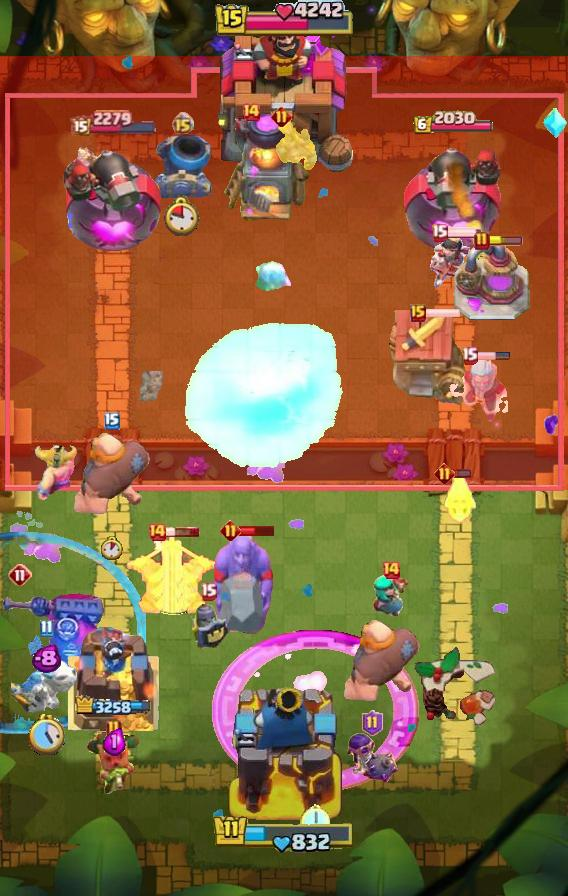archer-queen: (210, 532, 276, 644)
balloon: (72, 432, 152, 520), (342, 619, 422, 707)
bat: (254, 260, 292, 294)
bat-evolution: (443, 471, 479, 525)
clock: (212, 813, 356, 855), (213, 0, 355, 40)
electro-spirit: (31, 644, 61, 674), (102, 728, 125, 756)
elixir: (28, 713, 65, 754), (164, 195, 200, 236), (300, 803, 330, 837), (101, 536, 123, 560)
emote: (239, 524, 276, 537), (445, 226, 483, 238), (423, 307, 461, 319), (164, 526, 200, 538), (487, 236, 523, 246), (475, 351, 511, 361), (452, 469, 471, 480)
fisherman: (133, 371, 165, 401)
goblin-ball: (344, 730, 400, 786)
goblin-barrel: (85, 732, 143, 798)
goblin-giant: (33, 444, 77, 500)
hunter: (223, 114, 311, 224)
inferno-tower: (0, 591, 116, 677)
king-tower: (211, 7, 357, 181), (223, 680, 345, 826)
knight-evolution: (212, 629, 420, 792)
lava-pup: (123, 536, 221, 618)
mega-knight: (180, 322, 346, 472)
mini-pekka: (11, 633, 81, 715)
mortar: (448, 353, 514, 425)
musketeer: (152, 134, 212, 198)
pad_0: (0, 531, 146, 735)
pad_2: (542, 107, 568, 139)
pekka: (452, 240, 530, 322)
princess: (186, 596, 230, 654)
queen-tower: (68, 627, 160, 731)
royal-delivery: (274, 117, 318, 173)
selected: (70, 109, 158, 136), (412, 110, 494, 136), (75, 694, 153, 717)
skeleton-dragon: (430, 233, 474, 293)
sparky: (383, 309, 469, 407)
text: (8, 563, 32, 587), (171, 112, 194, 136), (362, 710, 383, 736), (433, 463, 454, 485), (220, 519, 241, 541), (272, 105, 293, 126), (241, 102, 261, 122), (147, 522, 167, 542), (381, 560, 401, 580), (431, 223, 449, 242), (199, 582, 217, 601), (462, 346, 479, 365), (474, 231, 490, 251), (106, 719, 122, 739), (410, 304, 426, 322), (104, 412, 120, 430), (39, 619, 53, 637)
tower-bar: (63, 136, 165, 256), (404, 138, 505, 256)
witch: (370, 575, 412, 621)
